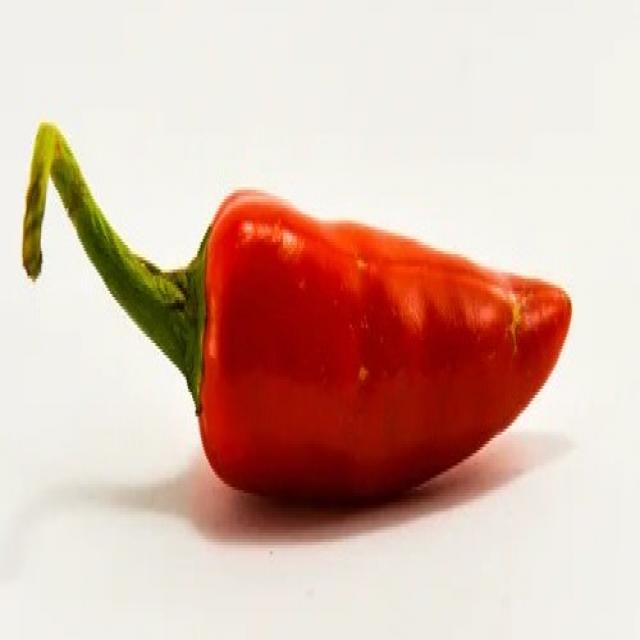red chili: (19, 116, 571, 512)
